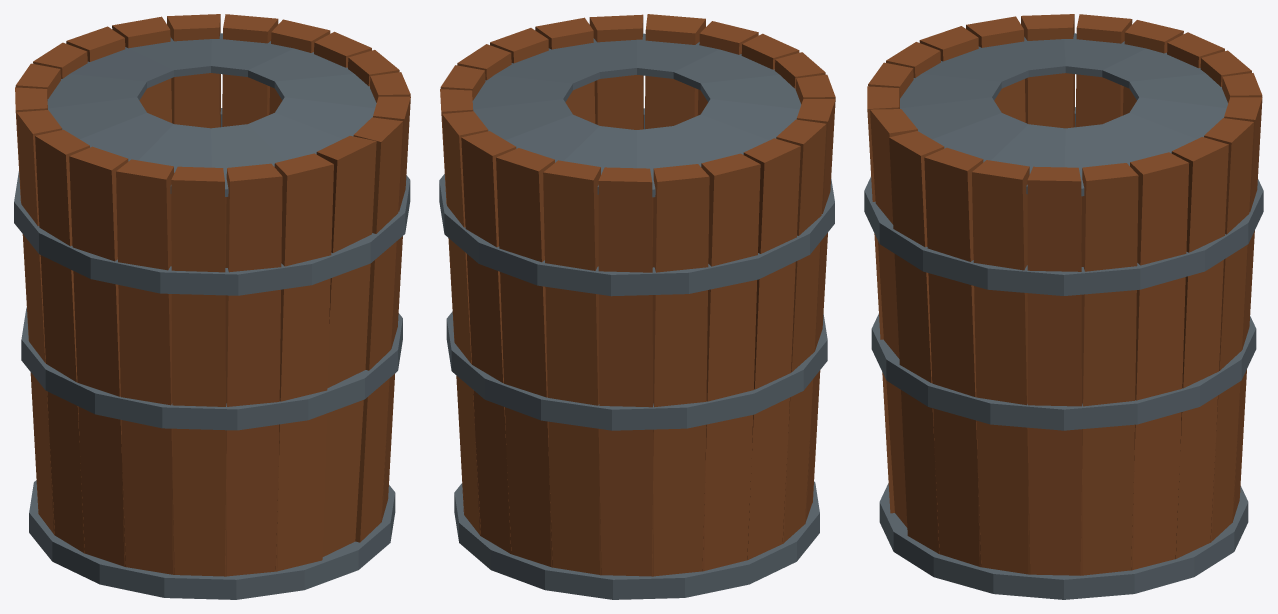
Rendered from TrashBin_1.fbx.
3 views of the same model, side by side, from view 1: azimuth 30°, elevation 25°; view 2: azimuth 150°, elevation 25°; view 3: azimuth 270°, elevation 25° (orthographic).
Parts seen in each view (by area): view 1: TrashBin_1; view 2: TrashBin_1; view 3: TrashBin_1.
Boxes of the visible parts, left/top/right/bottom form: TrashBin_1: left=14, top=14, right=410, bottom=599; TrashBin_1: left=439, top=14, right=835, bottom=599; TrashBin_1: left=864, top=14, right=1263, bottom=599.
Size of the model in its own units: 48.07 by 56.62 by 48.07.
